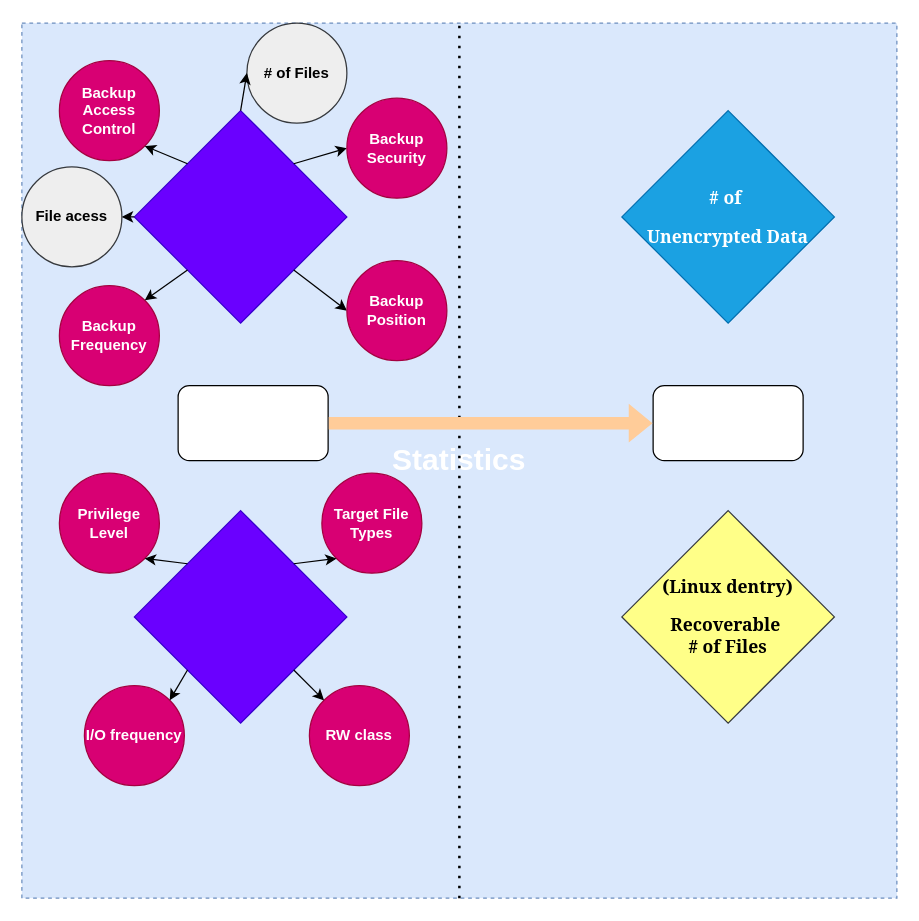
This 919x921 diagram has some shape labels left out. The centre of each missing label's shape, as x and y in pixels:
"Performance" belongs at pixel 727 422.
"Ransomware Statistics" belongs at pixel 240 616.
"Target System Statisics" belongs at pixel 240 216.
"Vulnerability" belongs at pixel 252 422.
